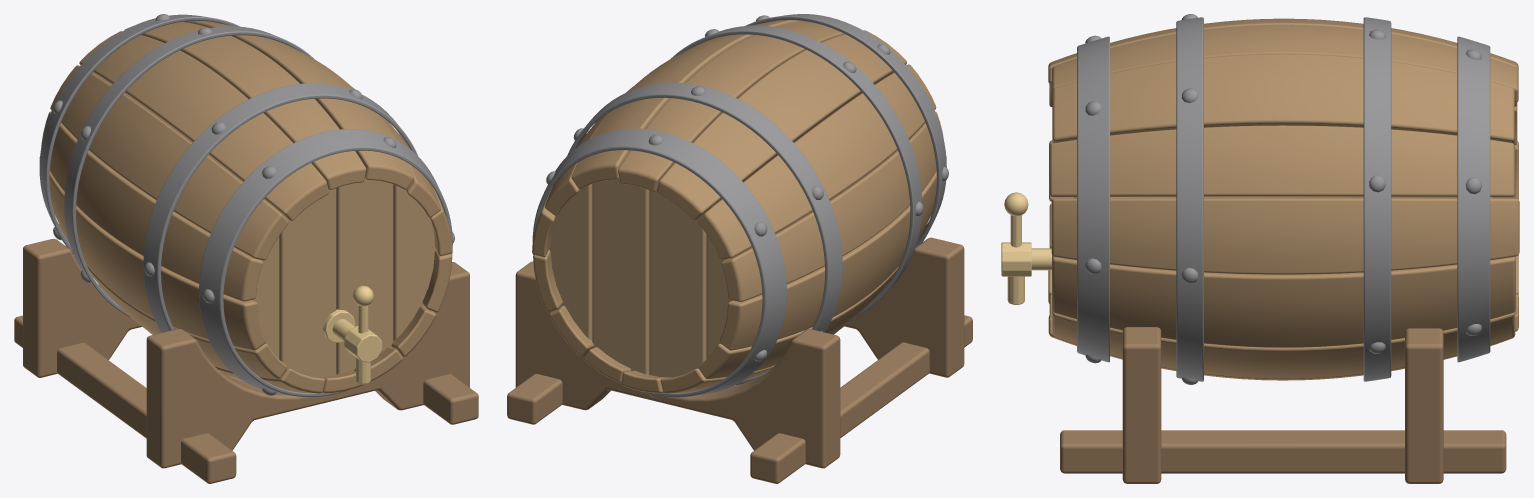
Rendered from beer_barrel.glb.
3 renders of one model, left to right at view 1: azimuth 30°, elevation 25°; view 2: azimuth 150°, elevation 25°; view 3: azimuth 270°, elevation 25°, orthographic. The views are drawn at different scales.
Parts seen in each view (by area): view 1: Staves, Stand, Hoops, Heads, Tap, Rivets; view 2: Staves, Stand, Heads, Hoops, Rivets; view 3: Staves, Hoops, Stand, Tap, Rivets.
Part boxes in pixels (box(x1,y1,x2,y2)): Staves: box(39, 20, 452, 393); Stand: box(14, 239, 478, 483); Hoops: box(39, 14, 452, 396); Heads: box(208, 155, 436, 377); Tap: box(323, 285, 382, 384); Rivets: box(53, 14, 454, 395); Staves: box(532, 20, 946, 393); Stand: box(507, 237, 972, 483); Heads: box(549, 155, 777, 377); Hoops: box(532, 14, 946, 397); Rivets: box(546, 15, 948, 397); Staves: box(1048, 18, 1519, 380); Hoops: box(1077, 17, 1490, 381); Stand: box(1060, 327, 1506, 483); Tap: box(1001, 192, 1051, 304); Rivets: box(1085, 14, 1481, 384).
Bounding box in the file's own units: 0.74 × 0.7377 × 0.9399.
